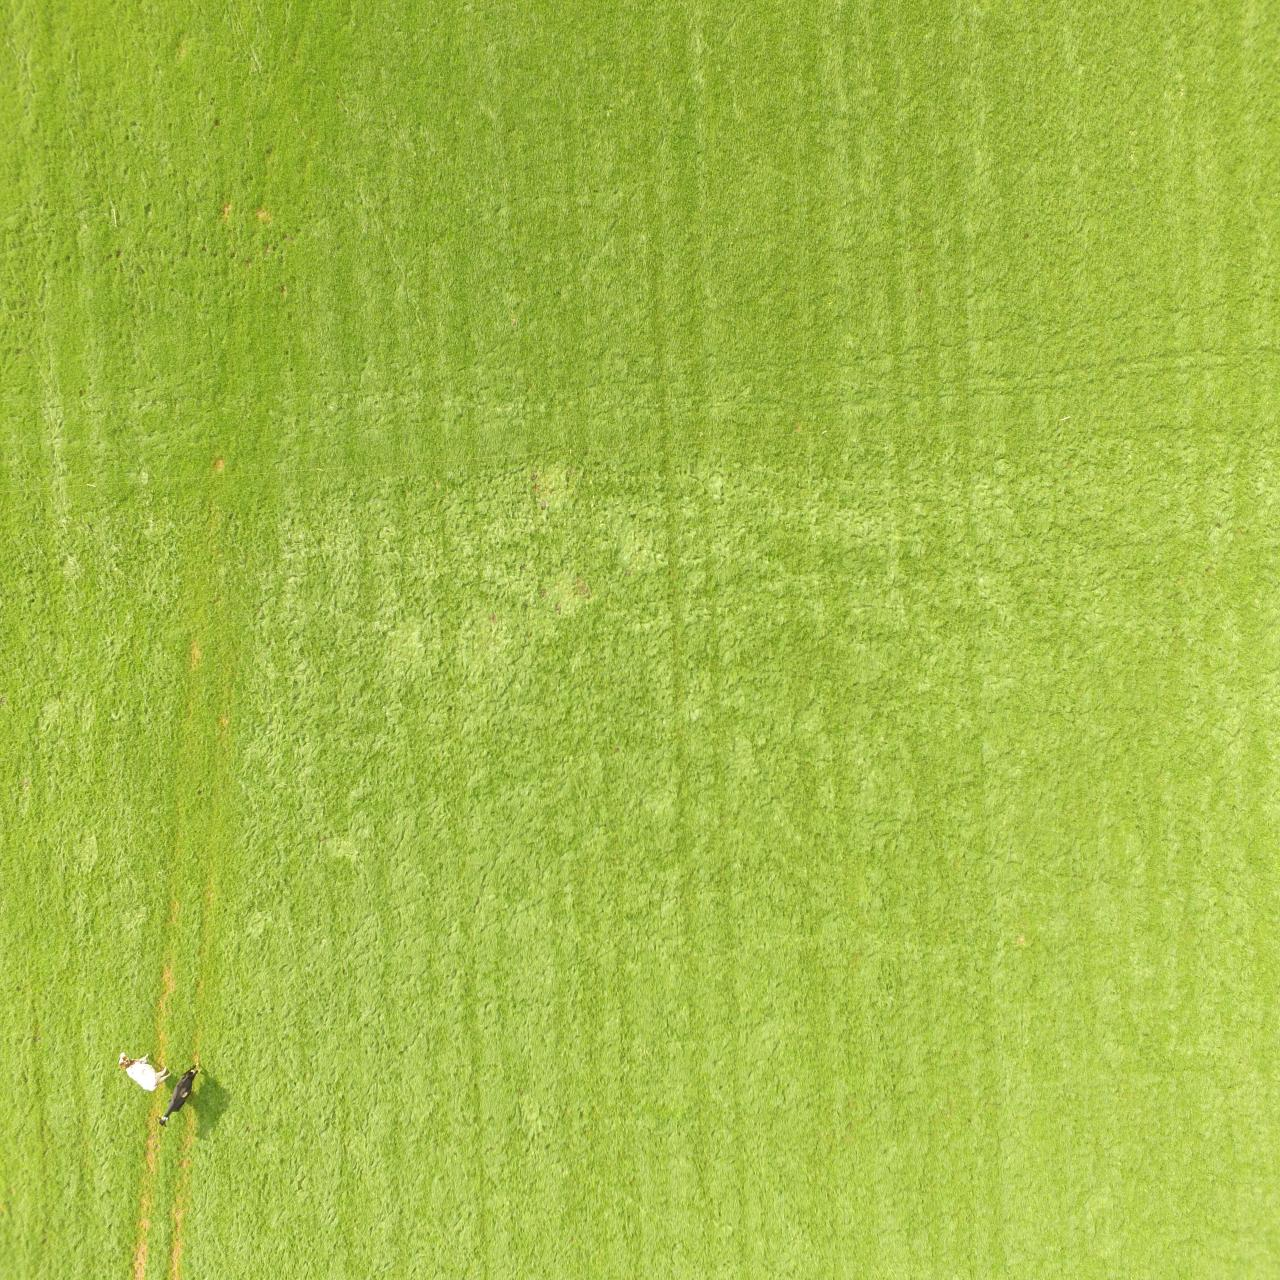cow: (157, 1062, 200, 1129), (117, 1051, 172, 1091)
